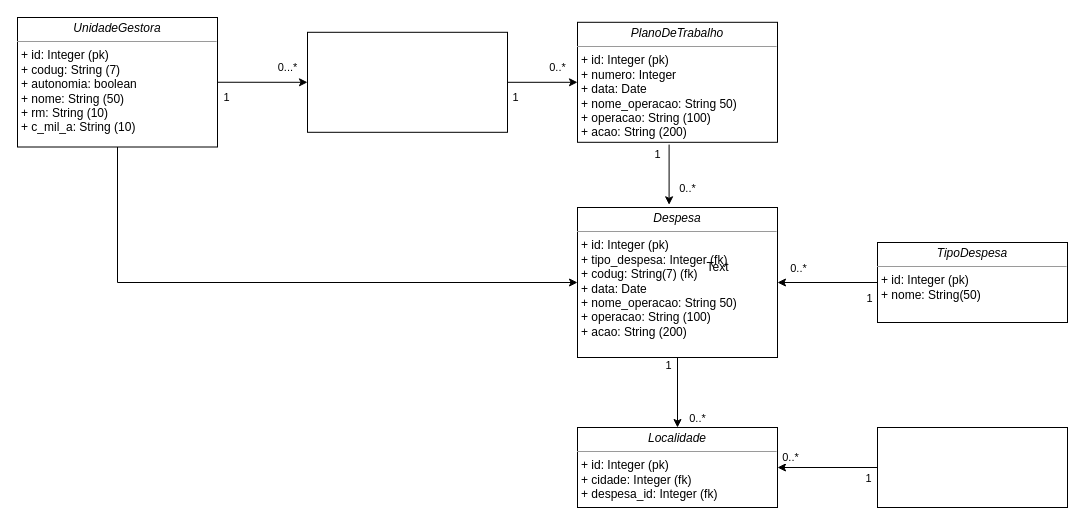
Image size: 1085x525. Some labels were removed from this diagram. The shapes that lost their labels are listed below. From the top down, each one's box as (x1, y1, x2, y2) in pixels, then its label:
(306, 31, 508, 132): Documento + id: Integer (pk) + numero: Integer + data: Date + secao: String (50)
(876, 426, 1068, 508): Cidade + id: Integer (pk) + nome: String(50) + uf: String (2)
